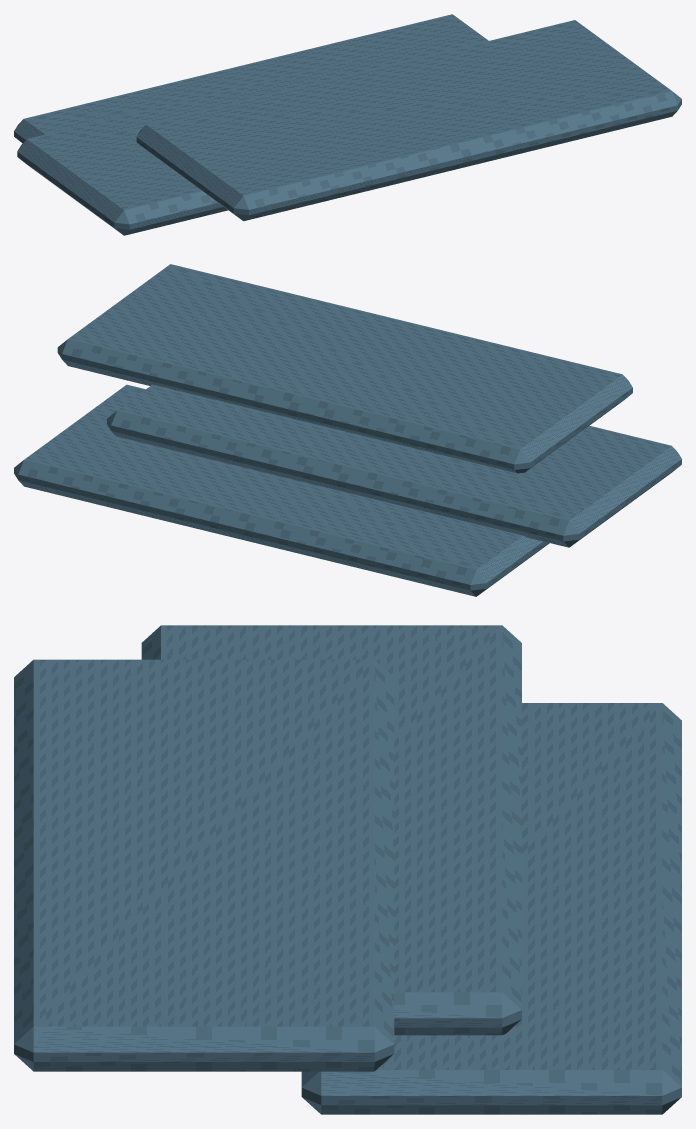
The model's file is bellyband.glb.
3 views of the same model, one above another, from view 1: azimuth 30°, elevation 25°; view 2: azimuth 150°, elevation 25°; view 3: azimuth 270°, elevation 25° (orthographic). The views are drawn at different scales.
Parts seen in each view (by area): view 1: block_folded waist textile (×3); view 2: block_folded waist textile (×3); view 3: block_folded waist textile (×3).
Part boxes in pixels (left/top/right/bottom): block_folded waist textile (×3): left=14, top=14, right=681, bottom=235; block_folded waist textile (×3): left=14, top=264, right=681, bottom=596; block_folded waist textile (×3): left=14, top=625, right=681, bottom=1114.
Size of the model in its own units: 0.2889 by 0.0364 by 0.1794.
1 material, 1 textured.
